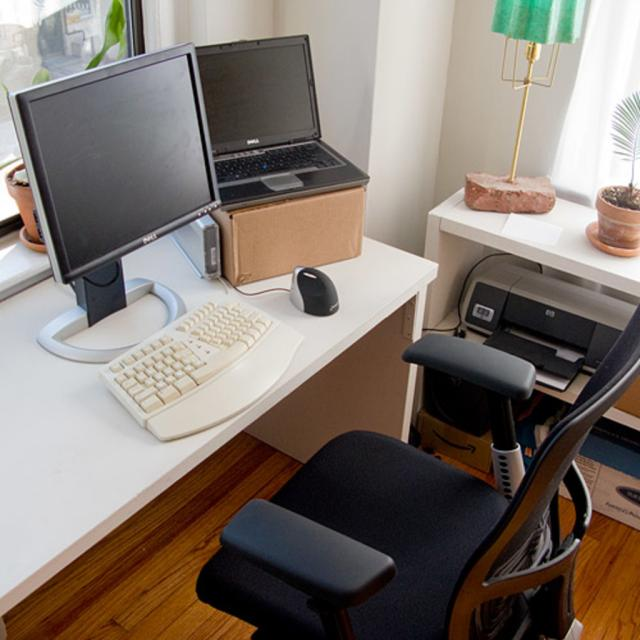chair: (199, 330, 616, 639)
desk: (3, 268, 435, 616)
keyboard: (96, 295, 298, 443), (214, 141, 340, 185)
laptop: (194, 34, 370, 209)
mouse: (289, 266, 339, 317)
tv: (7, 42, 222, 288)
